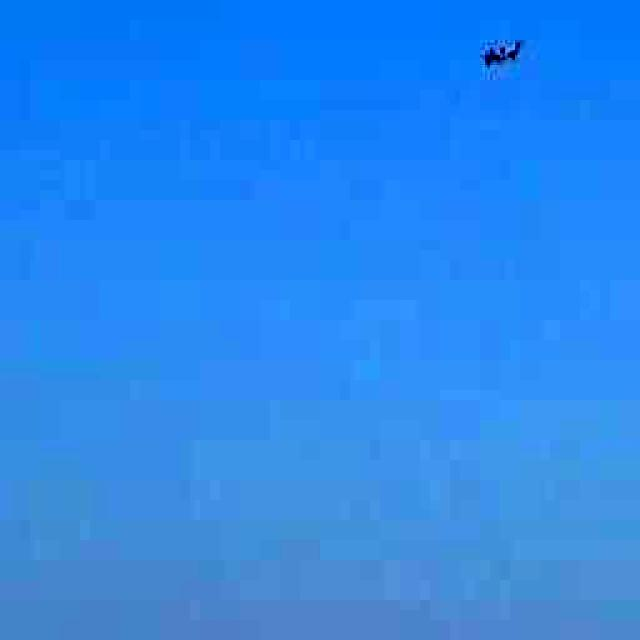bird: (464, 24, 539, 89)
